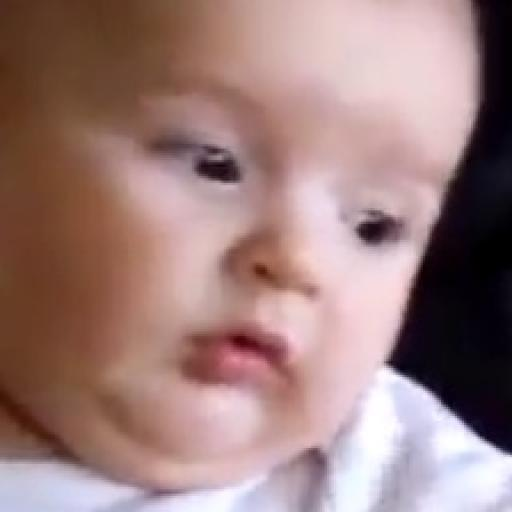Autism: (0, 0, 467, 512)
